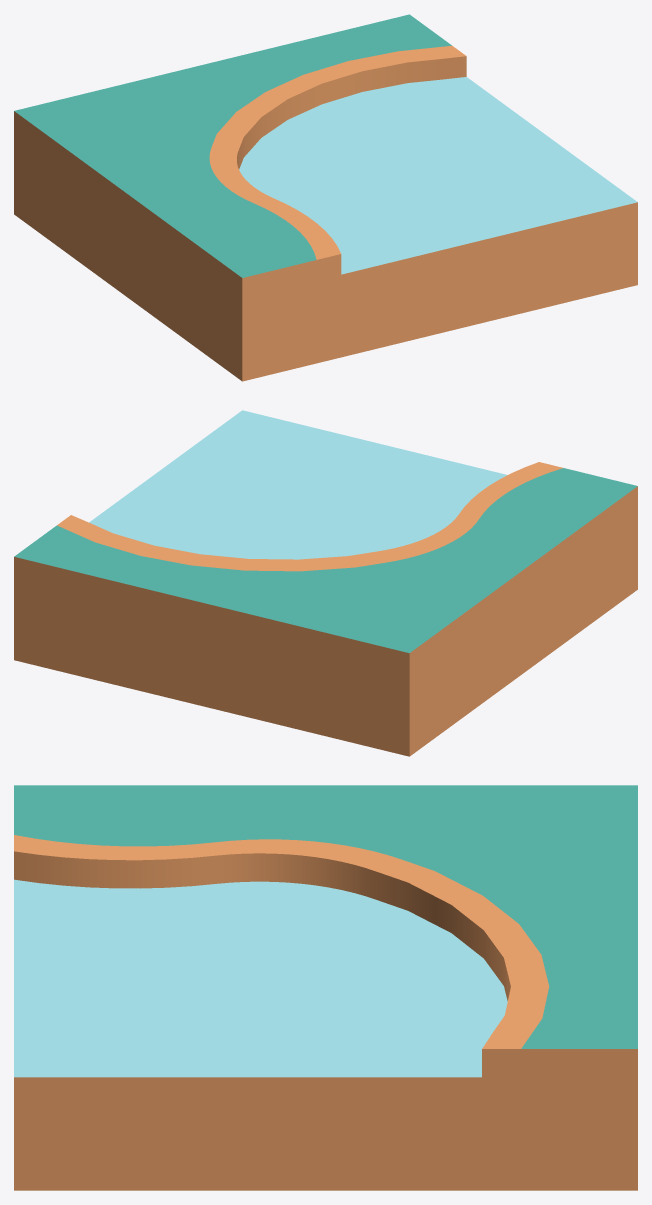
File: ground_dirtRiverSideCorner.fbx
3 renders of one model, top to bottom at view 1: azimuth 30°, elevation 25°; view 2: azimuth 150°, elevation 25°; view 3: azimuth 270°, elevation 25°, orthographic. The views are drawn at different scales.
Visible parts, largest first — view 1: ground_dirtRiverSideCorner; view 2: ground_dirtRiverSideCorner; view 3: ground_dirtRiverSideCorner.
Boxes of the visible parts, x1,y1,x2,y2 form: ground_dirtRiverSideCorner: (14, 14, 637, 381); ground_dirtRiverSideCorner: (14, 410, 637, 756); ground_dirtRiverSideCorner: (14, 785, 637, 1190).
Bounding box in the file's own units: 10 × 2.5 × 10.
